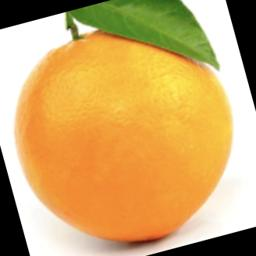Orange Fresh: (0, 0, 255, 256)
